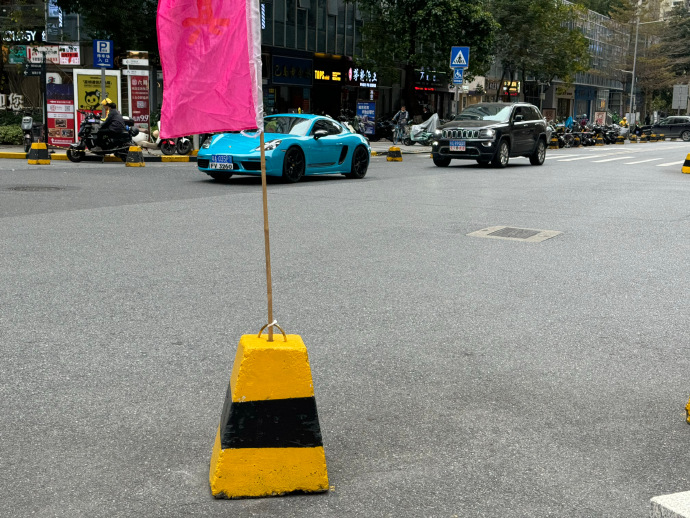other: (193, 109, 371, 180), (432, 103, 552, 169)
